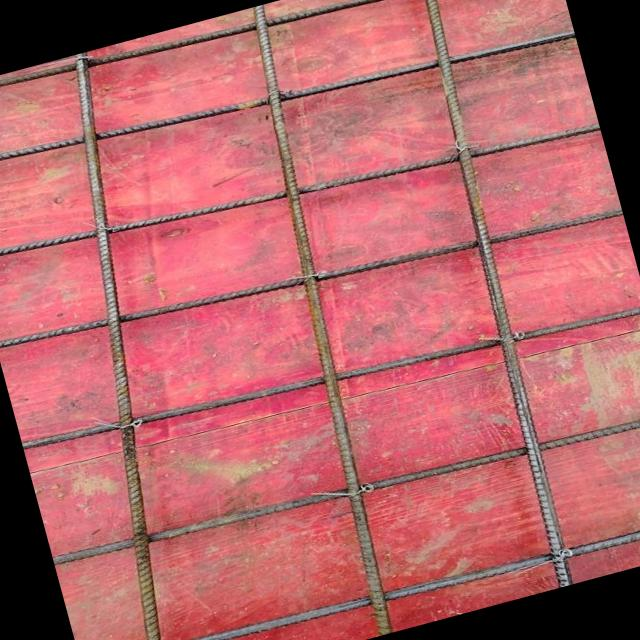ribbed bar: (0, 51, 253, 640), (210, 4, 429, 635), (0, 175, 622, 381), (21, 275, 640, 479), (0, 87, 600, 297), (390, 0, 595, 587), (0, 0, 574, 204), (51, 390, 640, 583), (81, 499, 640, 640), (0, 0, 551, 127)
